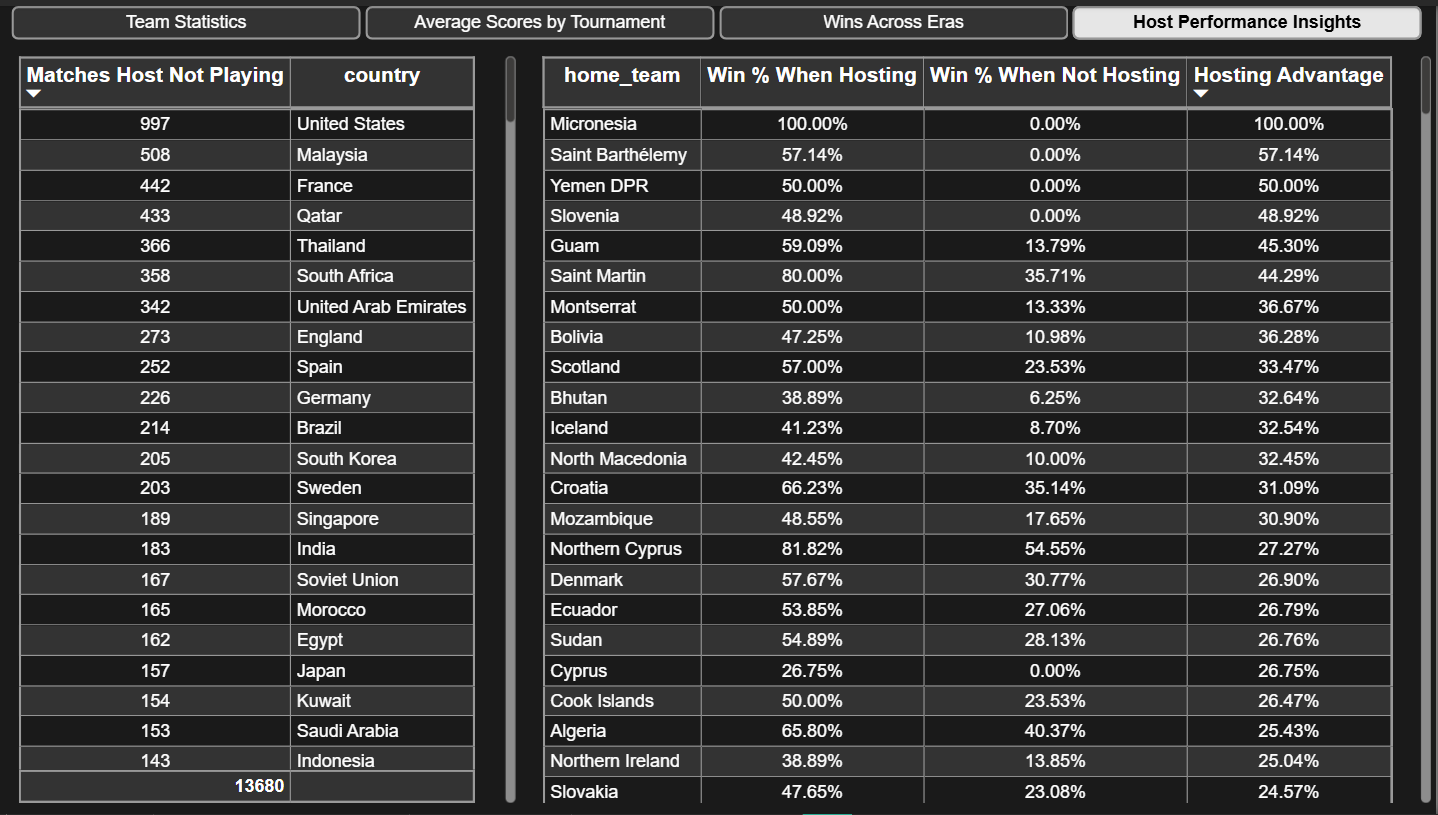

This screenshot's page, from the dashboard's own definition file:
{"tool":"powerbi","page":{"name":"Host Performance Insights","canvas":[1280,720],"ordinal":3},"visuals":[{"type":"pageNavigator","box":[11,0,1258.3,30.2],"z":0},{"type":"tableEx","fields":{"Values":["_Measures.Matches Host Not Playing","results.country"]},"box":[11,40.5,454,674.9],"z":1000},{"type":"tableEx","fields":{"Values":["results.home_team","_Measures.Win % When Hosting","_Measures.Win % When Not Hosting","_Measures.Hosting Advantage"]},"box":[477.3,40.5,802.5,674.9],"z":2000}]}

Visuals, with their boxes in screenshot pixels (x1, y1, x2, y2), scaled from the page's 1280x720 canvas onto the 1438x815 screenshot:
pageNavigator: (12,0,1426,34)
tableEx - _Measures.Matches Host Not Playing x results.country: (12,46,522,810)
tableEx - results.home_team x _Measures.Win % When Hosting: (536,46,1437,810)
